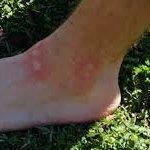Ants: (23, 46, 46, 77), (76, 57, 98, 81)
